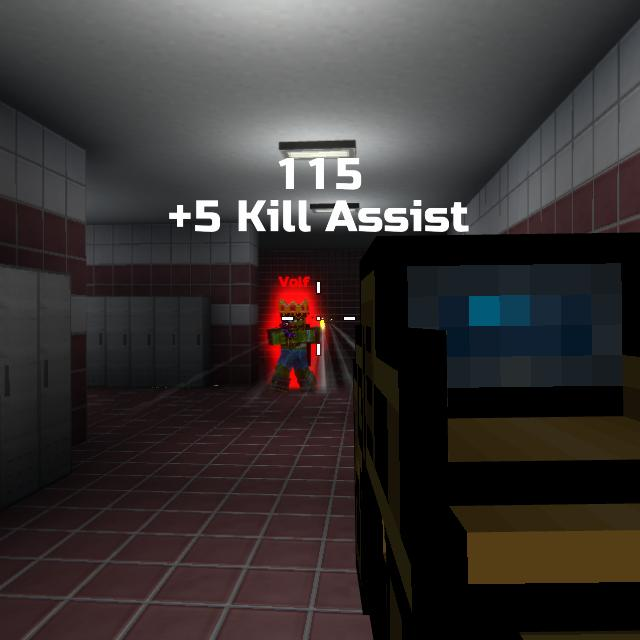Enemy: (266, 304, 323, 393)
